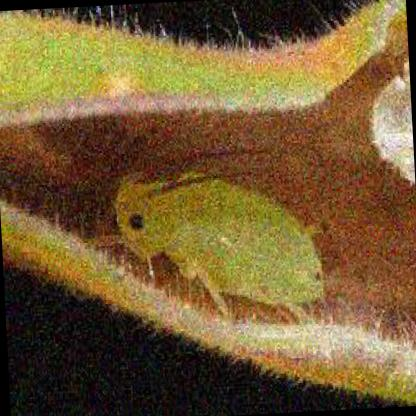schizaphis graminum: (117, 173, 325, 309)
